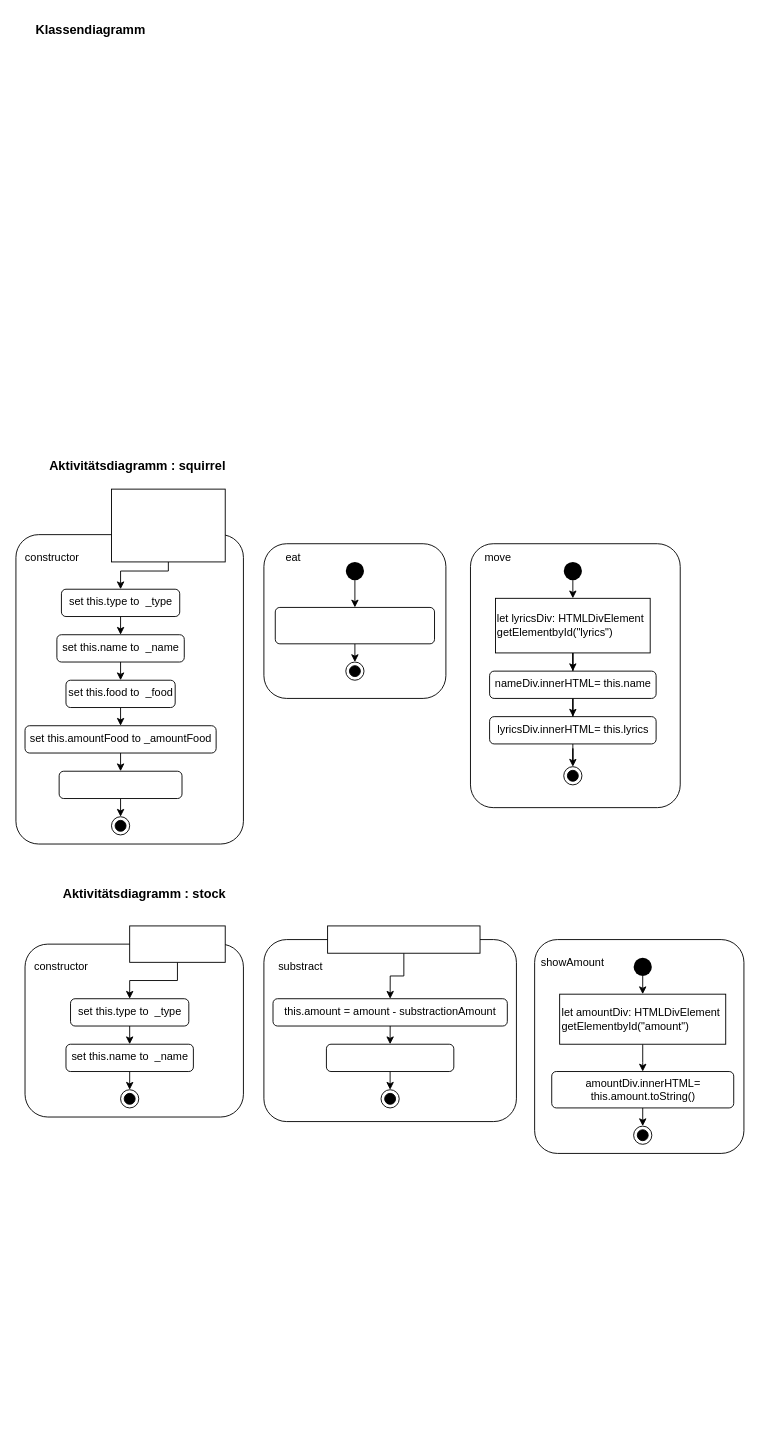
This 760x1431 diagram has some shape labels left out. Here are the shapes that lost their labels. From the top down, the centre of each, then its label:
point (168, 525): _type: string _name: string
point (354, 625): call substract from instand food; amountFood
point (120, 784): set this.lyrics to _lyrics
point (177, 943): _type: string _amount: number
point (403, 939): _substractionAmount: number
point (390, 1057): call showAmount()
